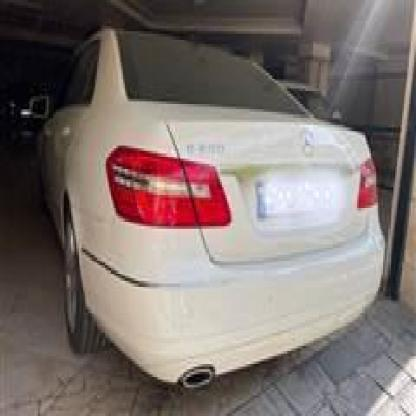Car: (31, 42, 380, 392)
